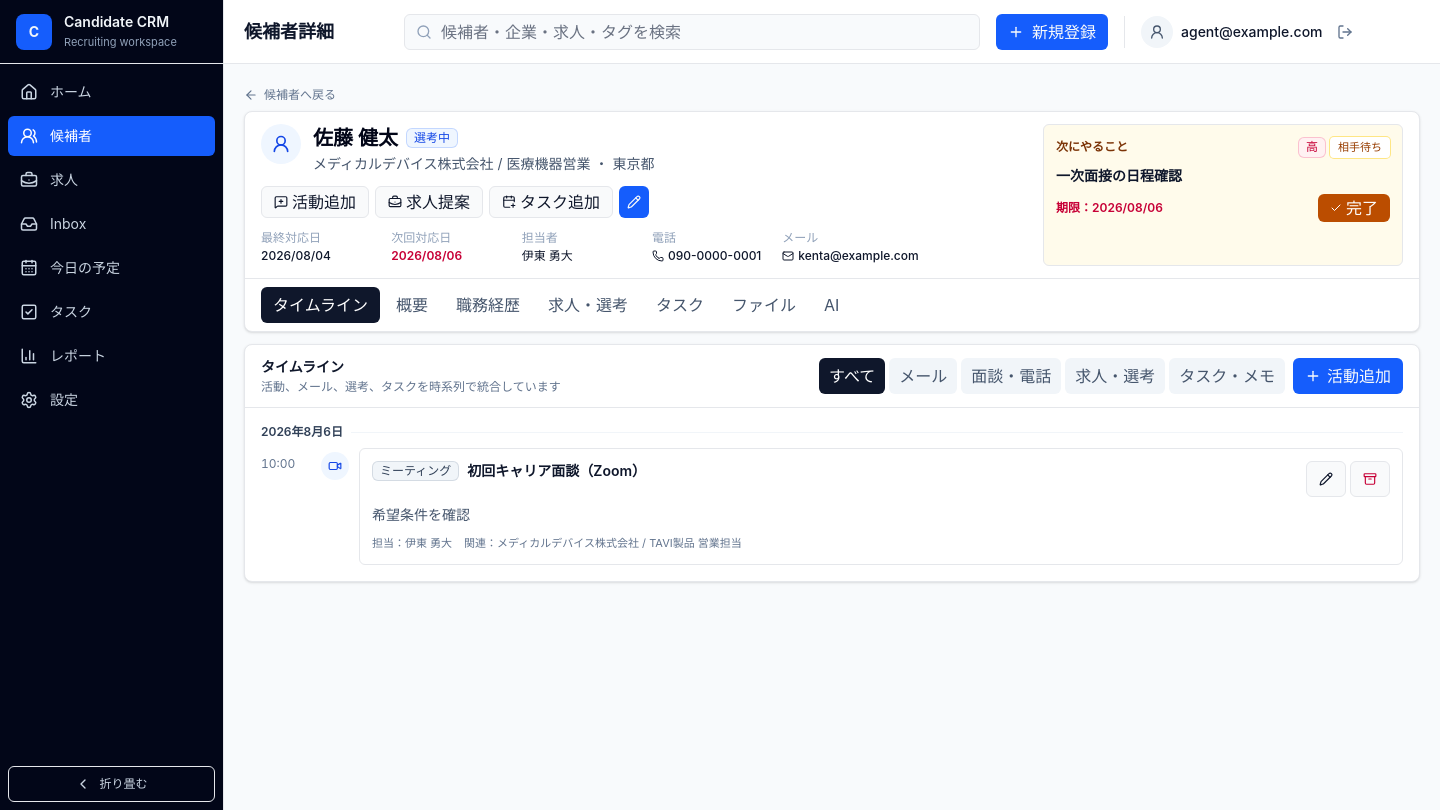
Test case: Candidate CRM Phase 2.5 routes › 候補者の選考ステータス履歴を表示する
What coordinates should you click on to do the following:
click the tab "求人・選考"
I would click on:
 (588, 305)
Its box is [536,287,640,323].
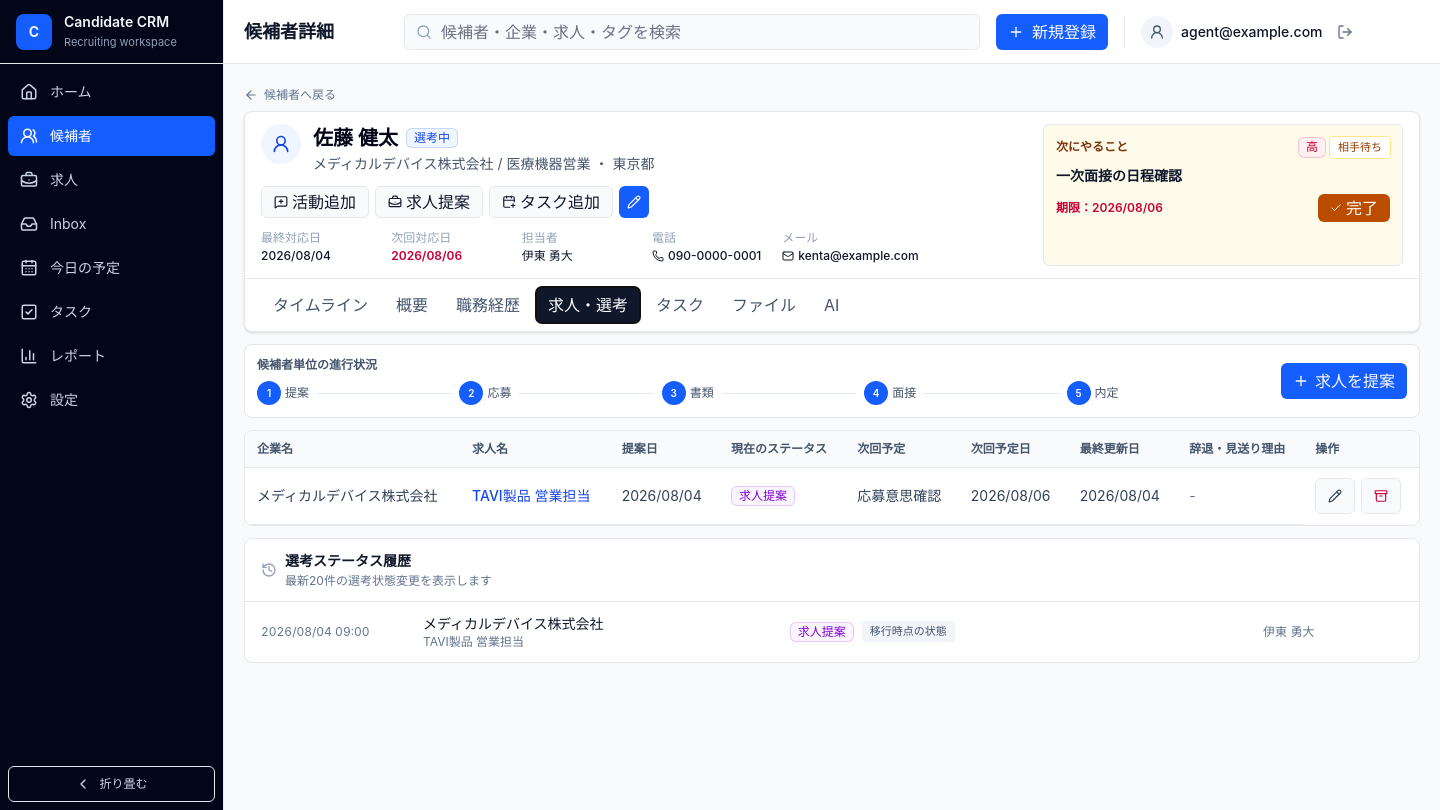
Check: the heading "選考ステータス履歴" is shown, box [285,552,411,568]
Check: the list item with aria-label "求人提案を初期状態として記録" is shown, box [261,614,1314,648]
Check: the text "移行時点の状態" is shown, box [862,621,955,642]
